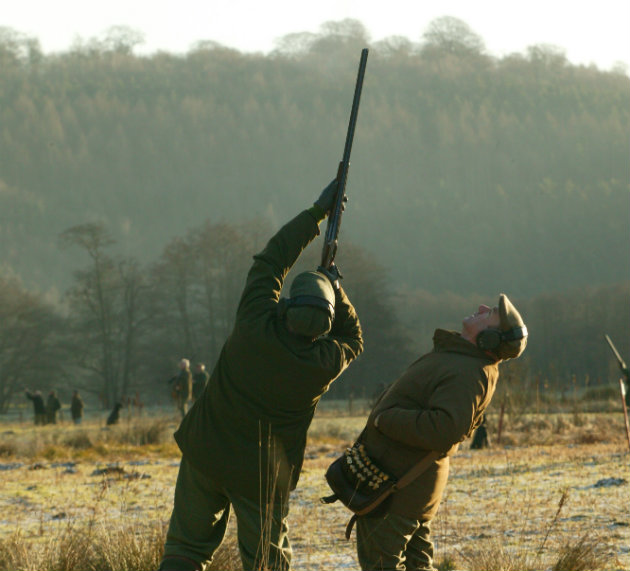Gun: (325, 51, 365, 273)
